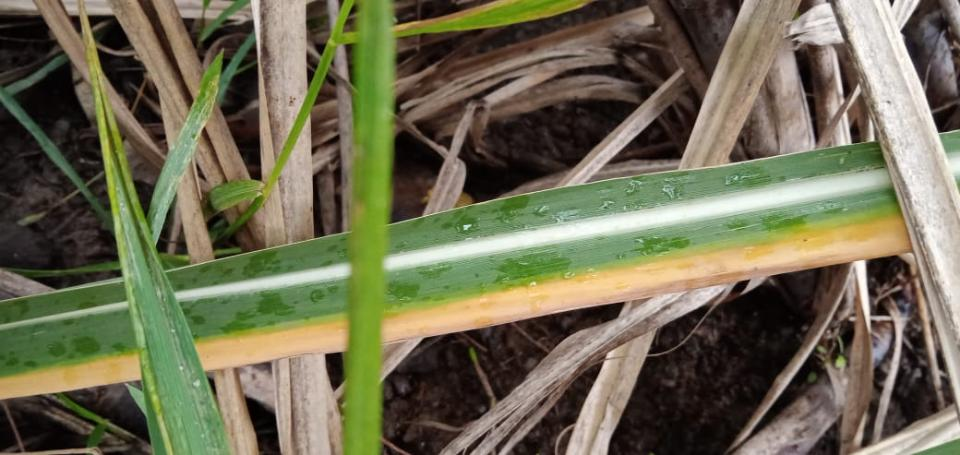Yellow: (384, 215, 911, 344), (195, 317, 349, 373), (0, 353, 141, 399)
